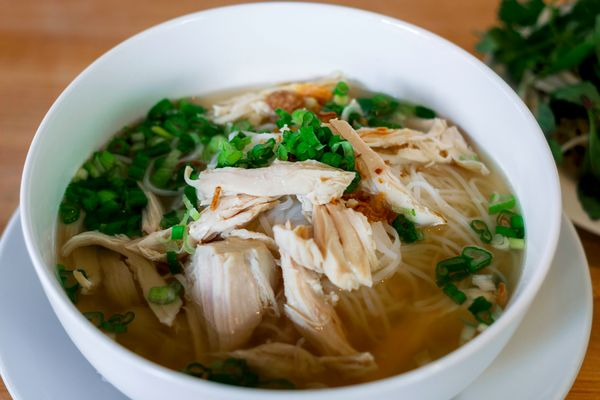sushi: (16, 2, 594, 396), (476, 0, 600, 238)
